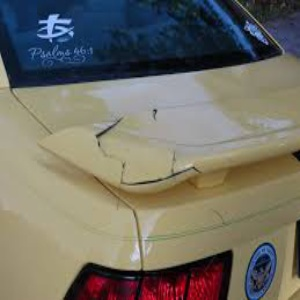bonnet: (40, 102, 226, 197)
